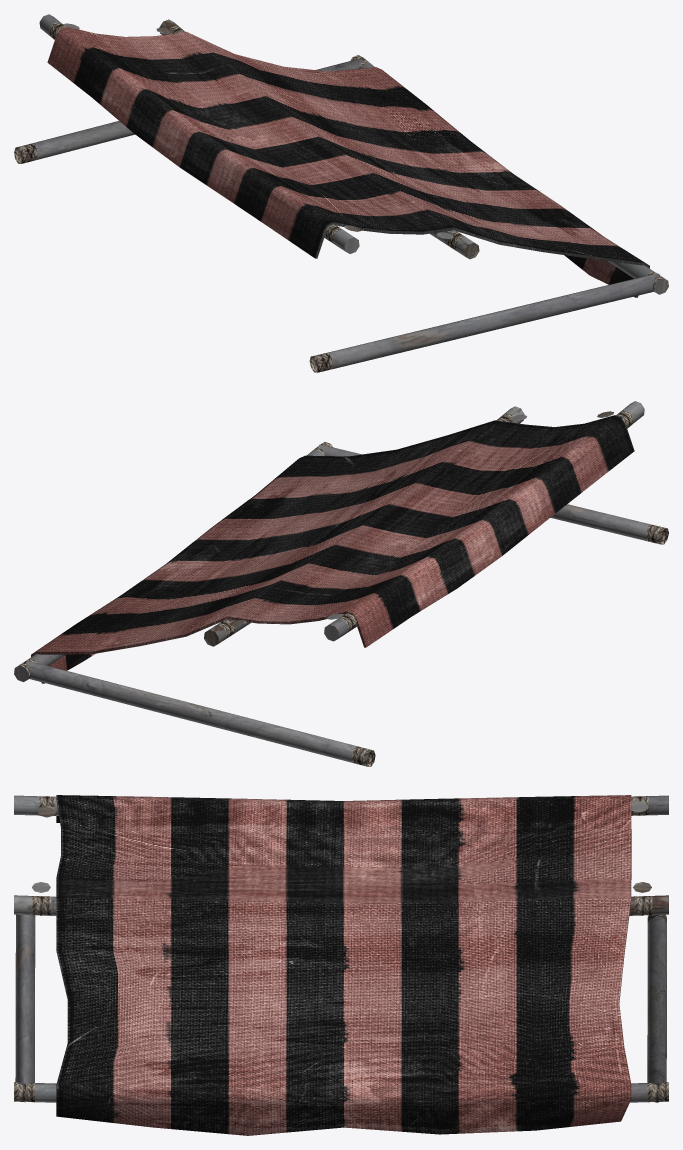
File: tenda.fbx
3 renders of one model, top to bottom at view 1: azimuth 30°, elevation 25°; view 2: azimuth 150°, elevation 25°; view 3: azimuth 270°, elevation 25°, orthographic. The views are drawn at different scales.
Visible parts, largest first — view 1: Mesh_Object; view 2: Mesh_Object; view 3: Mesh_Object.
Part boxes in pixels (x1,y1,x2,y2): Mesh_Object: [14, 14, 668, 372]; Mesh_Object: [14, 401, 668, 766]; Mesh_Object: [14, 795, 668, 1135].
Bounding box in the file's own units: 148 × 65.92 × 222.
